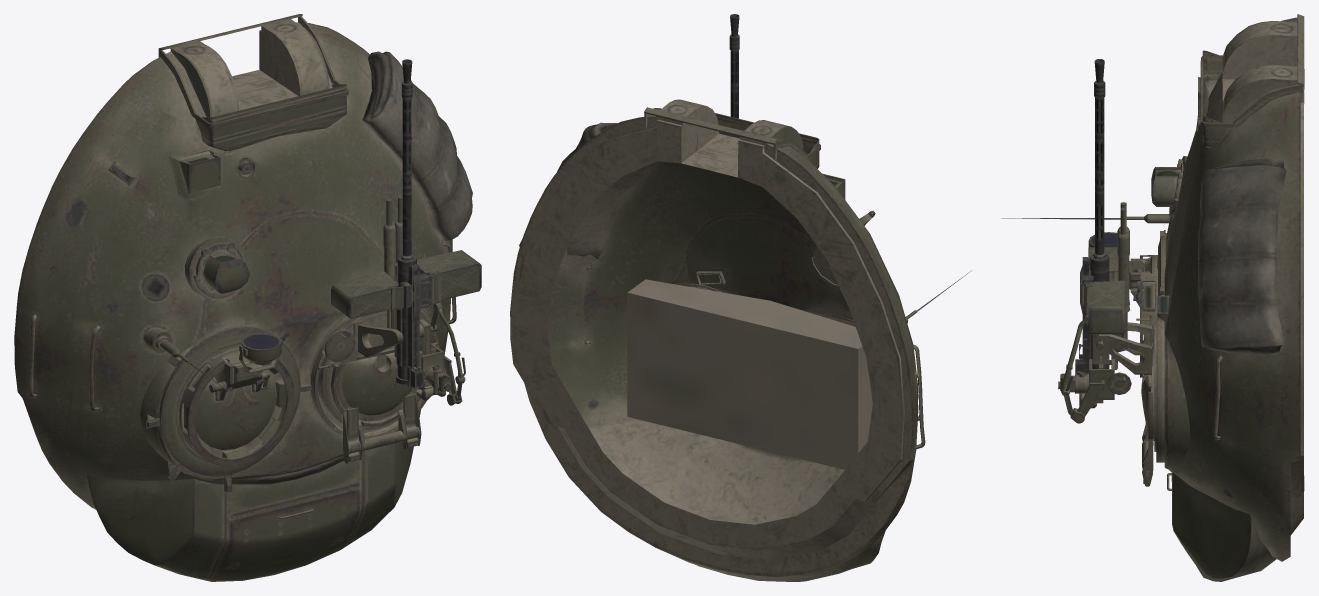
File: Turret_02.glb
3 views of the same model, side by side, from view 1: azimuth 30°, elevation 25°; view 2: azimuth 150°, elevation 25°; view 3: azimuth 270°, elevation 25° (orthographic). The views are drawn at different scales.
Visible parts, largest first — view 1: set_0_group_0; view 2: set_0_group_0; view 3: set_0_group_0.
Part boxes in pixels (x1,y1,x2,y2): set_0_group_0: (14, 14, 481, 581); set_0_group_0: (510, 14, 972, 581); set_0_group_0: (1001, 14, 1304, 581).
Bounding box in the file's own units: 2.81 × 3.31 × 1.7.
Materials: 1 (1 with a texture image).
